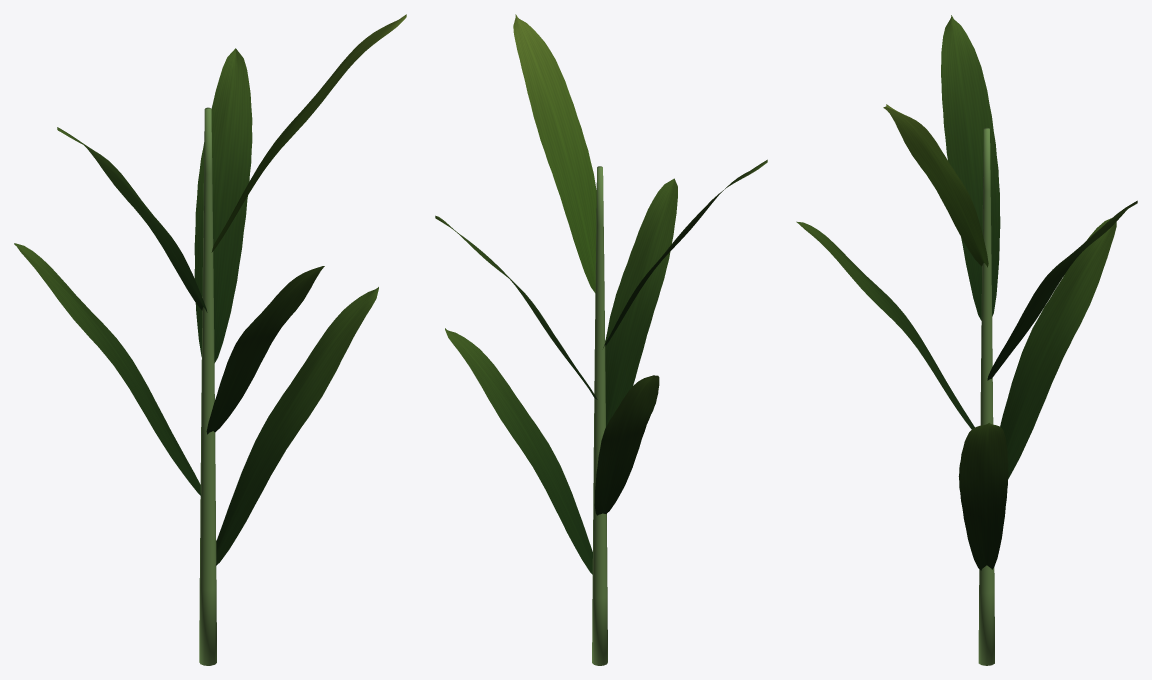
Rendered from iris-05.glb.
The picture shows the model from 3 angles, left to right: view 1: azimuth 30°, elevation 25°; view 2: azimuth 150°, elevation 25°; view 3: azimuth 270°, elevation 25°; orthographic projection. The views are drawn at different scales.
Visible parts, largest first — view 1: iris_stage_05_leaf_veins.008, iris_stage_05_stem_fibres.008, iris_stage_05_young_leaf.008; view 2: iris_stage_05_leaf_veins.008, iris_stage_05_young_leaf.008, iris_stage_05_stem_fibres.008; view 3: iris_stage_05_leaf_veins.008, iris_stage_05_stem_fibres.008, iris_stage_05_young_leaf.008.
Boxes of the visible parts, x1=… form: iris_stage_05_leaf_veins.008: x1=14, y1=48, x2=378, y2=565; iris_stage_05_stem_fibres.008: x1=199, y1=107, x2=216, y2=665; iris_stage_05_young_leaf.008: x1=211, y1=14, x2=406, y2=252; iris_stage_05_leaf_veins.008: x1=435, y1=159, x2=767, y2=574; iris_stage_05_young_leaf.008: x1=513, y1=14, x2=596, y2=292; iris_stage_05_stem_fibres.008: x1=592, y1=166, x2=607, y2=665; iris_stage_05_leaf_veins.008: x1=796, y1=15, x2=1137, y2=570; iris_stage_05_stem_fibres.008: x1=978, y1=127, x2=994, y2=665; iris_stage_05_young_leaf.008: x1=883, y1=104, x2=988, y2=267.
Size of the model in its own units: 0.1745 by 0.318 by 0.157.
3 materials, 2 textured.
